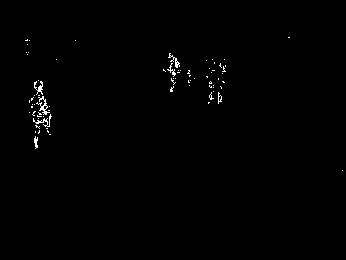person: (27, 79, 53, 149), (162, 49, 181, 91)
